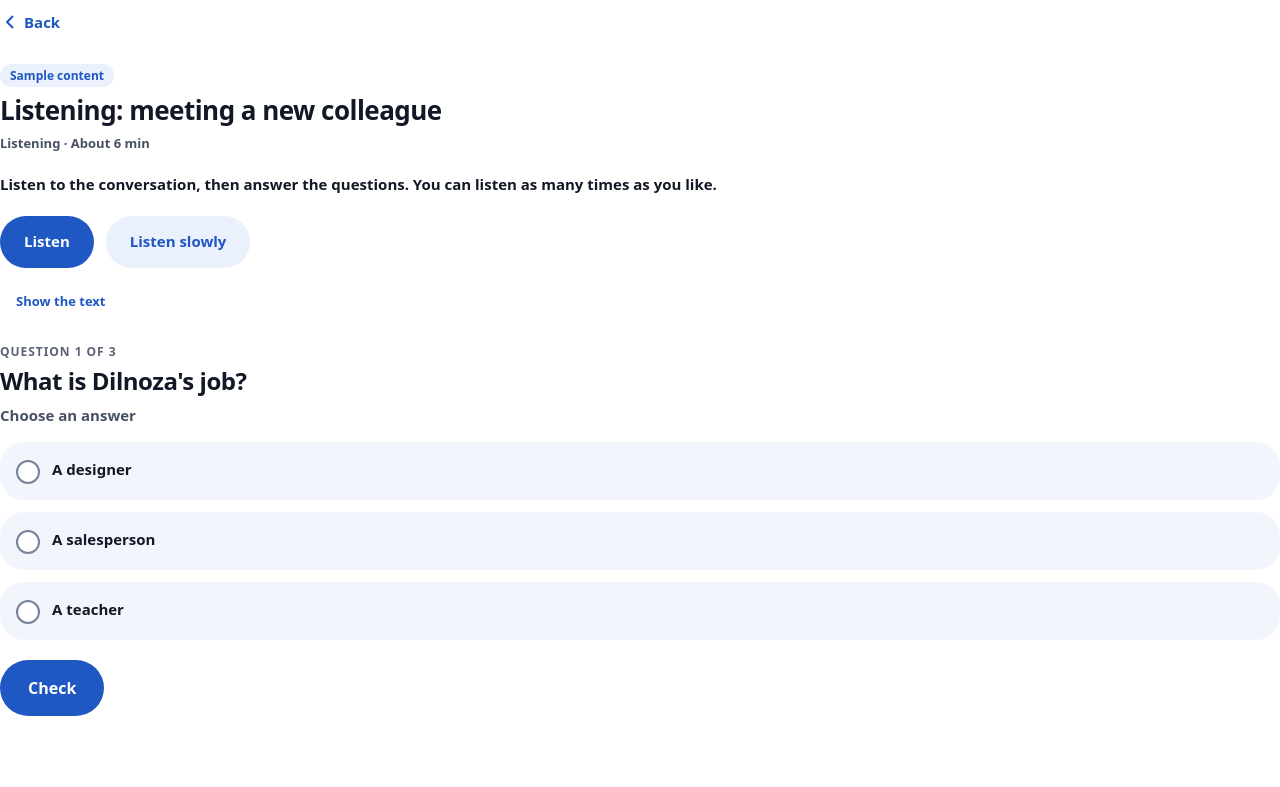
Test case: ListeningPage without a suitable voice › switches to the text when speaking fails
Click the button "Listen" at (47, 242), box [0,216,94,268]
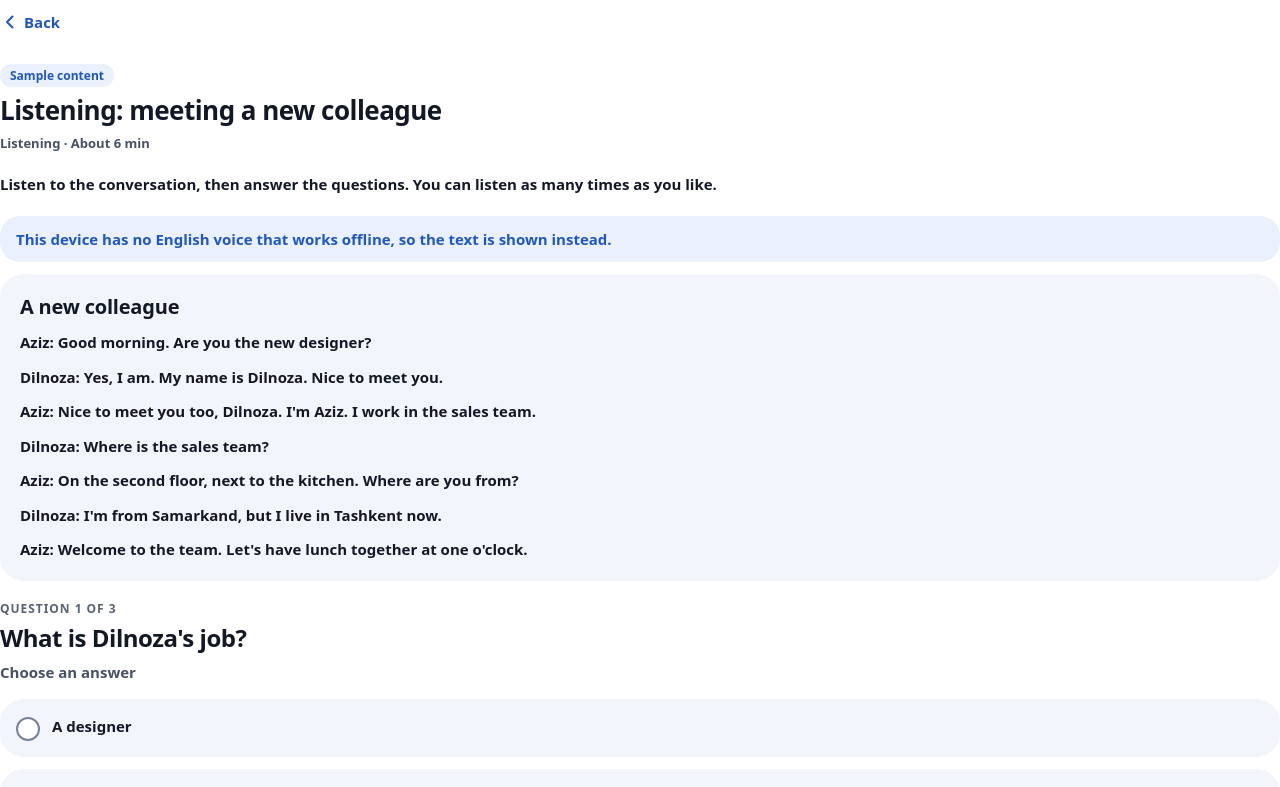
Expected: the text "Aziz: Good morning. Are you the new designer?" is shown, [20,332,371,352]
